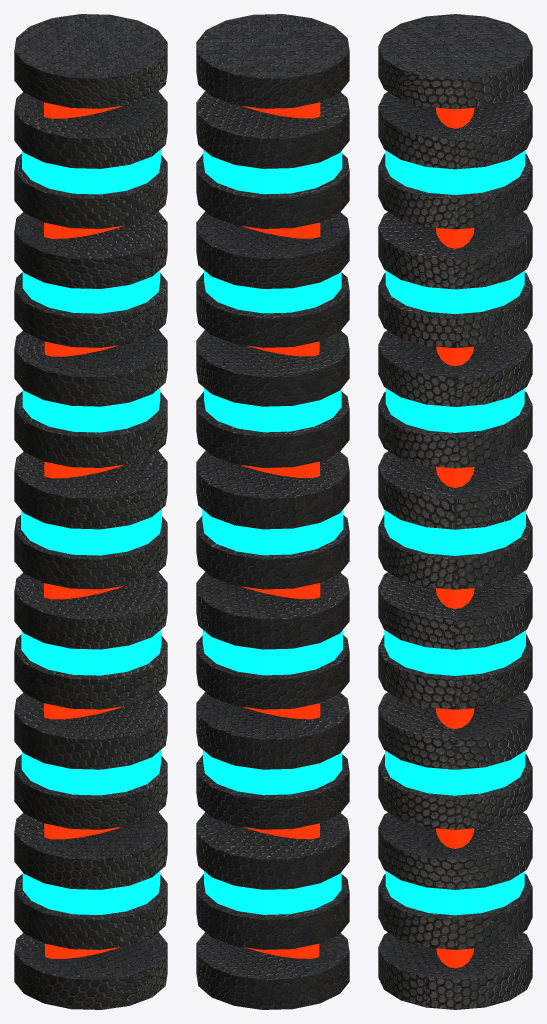
File: track1Building6.glb
3 renders of one model, left to right at view 1: azimuth 30°, elevation 25°; view 2: azimuth 150°, elevation 25°; view 3: azimuth 270°, elevation 25°, orthographic.
Visible parts, largest first — view 1: Cylinder.003; view 2: Cylinder.003; view 3: Cylinder.003.
Part boxes in pixels (x1,y1,x2,y2): Cylinder.003: (14,14,167,1009); Cylinder.003: (196,14,349,1009); Cylinder.003: (378,14,532,1009).
Size of the model in its own units: 1.26 by 8.37 by 1.26.
Materials: 3 (1 with a texture image).
